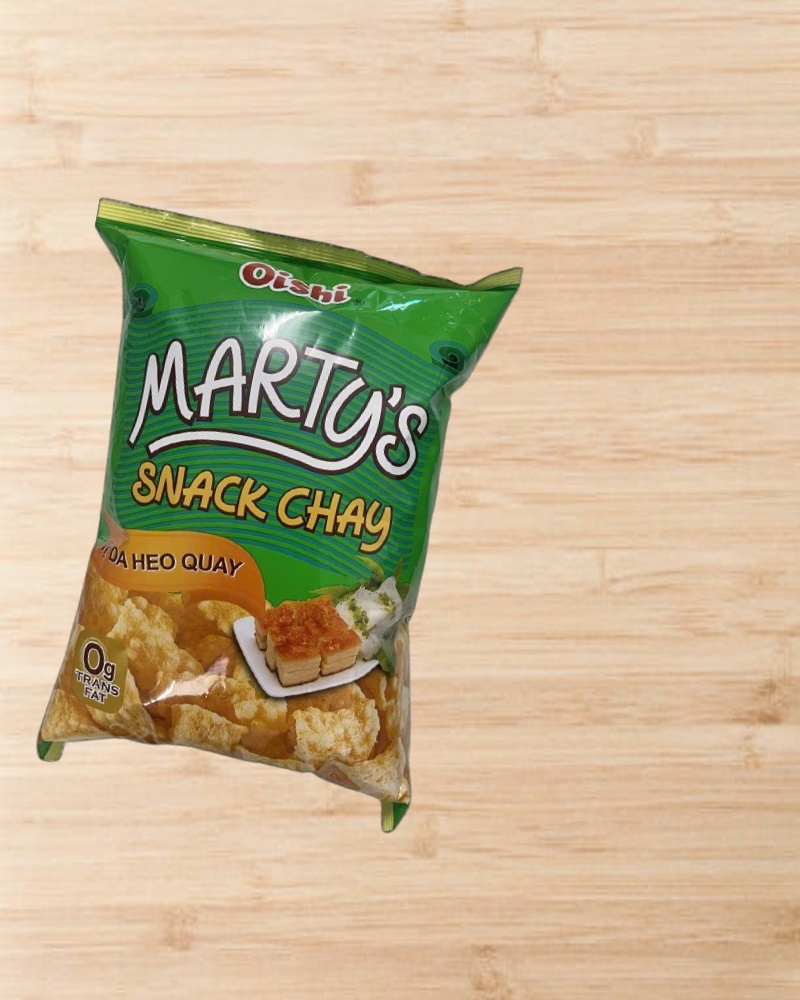Snack chay: (1, 194, 524, 840)
